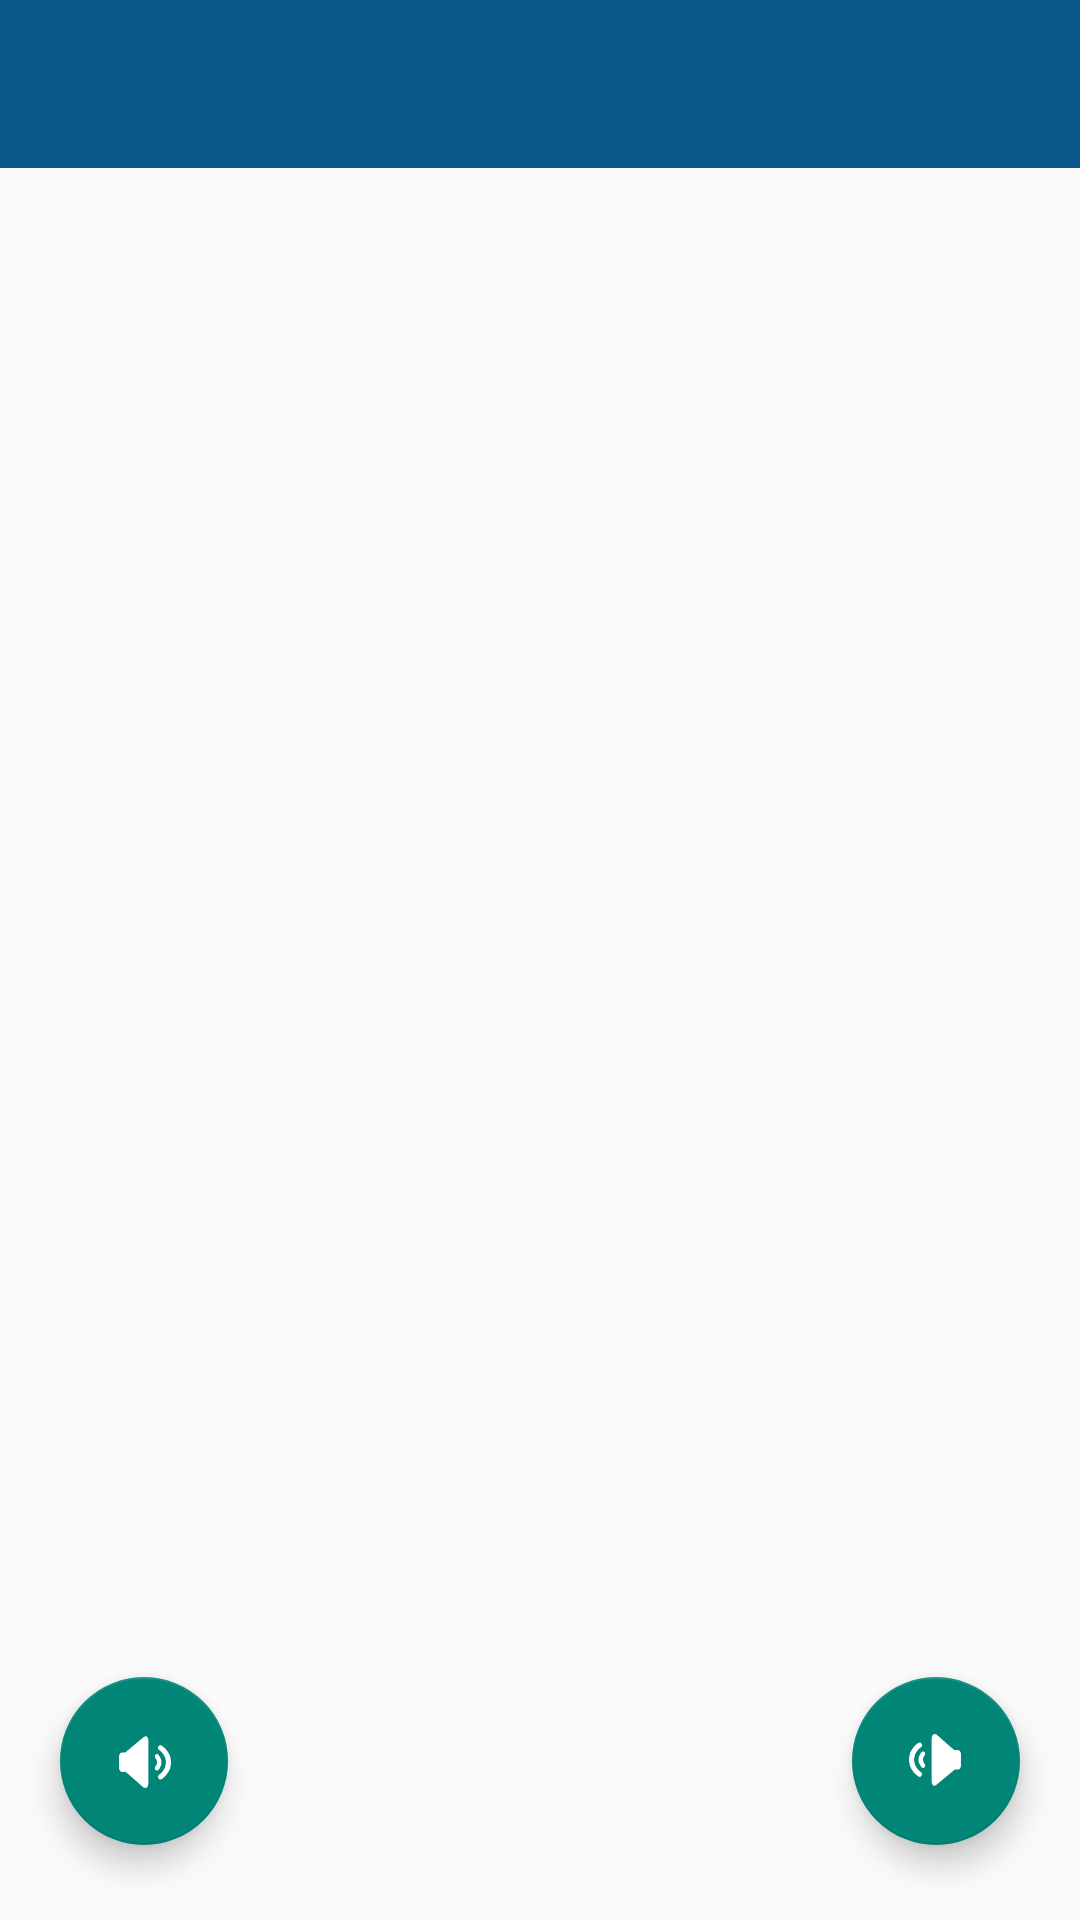

Named icons in this screenshot (1080 × 1920) and their bounding boxes, (x1=x1, y1=y1, x2=x2, y2=y2):
speaker left: (x1=852, y1=1677, x2=1020, y2=1845)
speaker right: (x1=60, y1=1677, x2=228, y2=1845)
